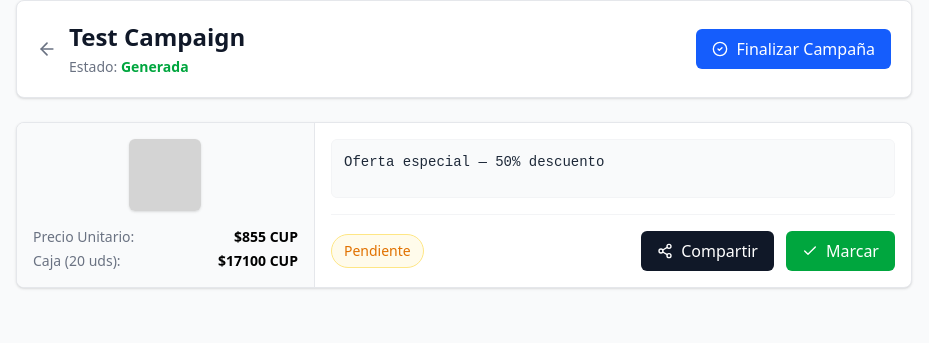
it: CampaignShare sent-status rule › shows a notice for canceled share
Expected: the heading "Test Campaign" is shown, [69,21,245,53]
Click the button "Compartir". click: (708, 251)
box: [641,231,774,271]
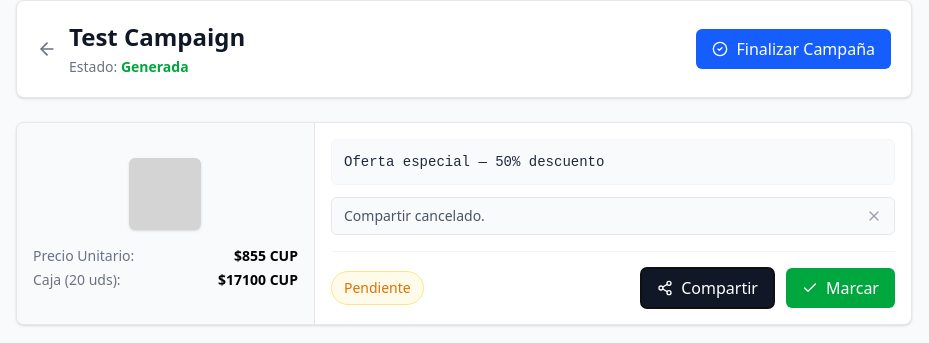
Expected: the text "Compartir cancelado." is shown, [344,206,485,225]
